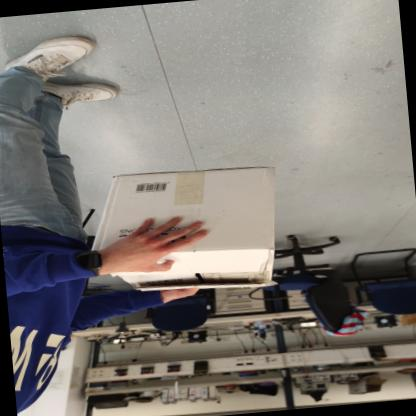box: (79, 153, 303, 311)
